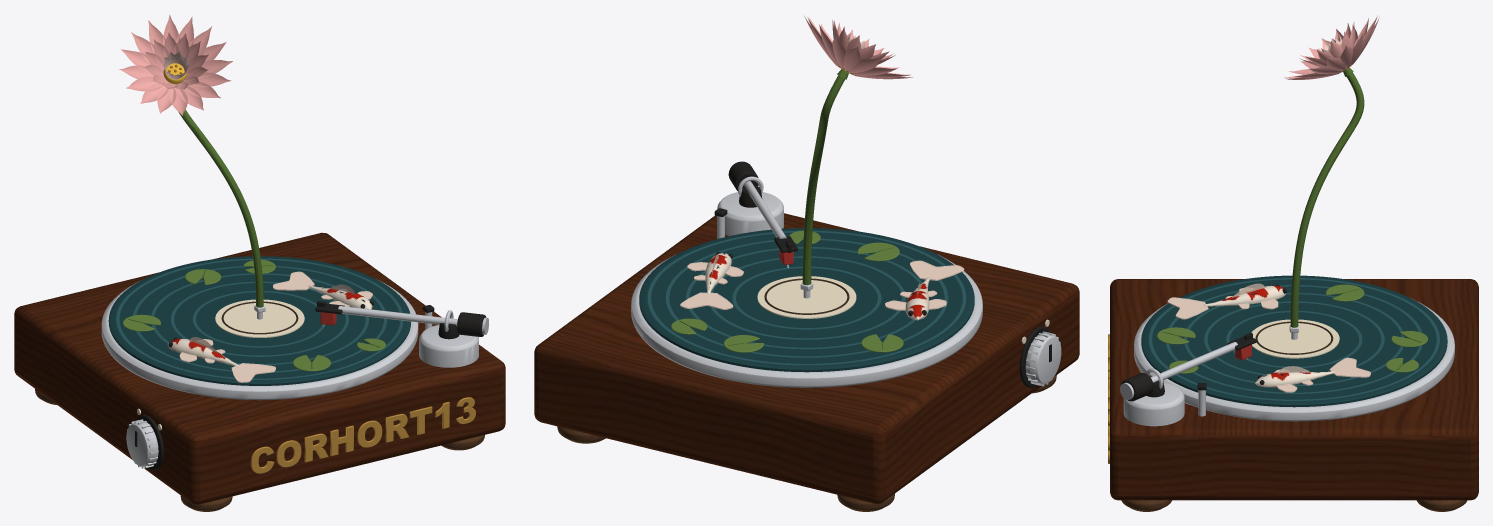
File: vinyl-record-player.glb
The picture shows the model from 3 angles, left to right: view 1: azimuth 30°, elevation 25°; view 2: azimuth 150°, elevation 25°; view 3: azimuth 270°, elevation 25°; orthographic projection. The views are drawn at different scales.
Visible parts, largest first — view 1: vinyl_record_player; view 2: vinyl_record_player; view 3: vinyl_record_player.
Boxes of the visible parts, <box> form: vinyl_record_player: <box>14,14,505,511</box>; vinyl_record_player: <box>534,15,1079,511</box>; vinyl_record_player: <box>1108,15,1478,511</box>.
Bounding box in the file's own units: 0.4182 × 0.4721 × 0.402.
20 materials, 3 textured.
